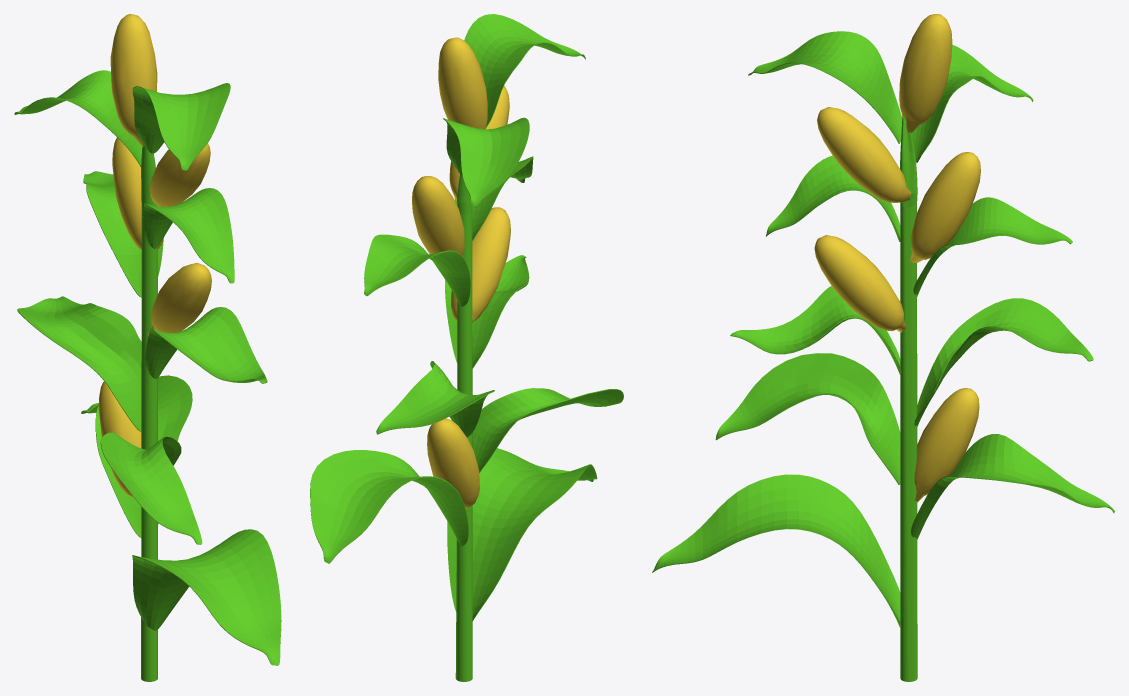
The model's file is corn3.fbx.
The picture shows the model from 3 angles, left to right: view 1: azimuth 30°, elevation 25°; view 2: azimuth 150°, elevation 25°; view 3: azimuth 270°, elevation 25°; orthographic projection.
Visible parts, largest first — view 1: corn stage 3; view 2: corn stage 3; view 3: corn stage 3.
Boxes of the visible parts, bbox=[...] form: corn stage 3: bbox=[14, 14, 281, 681]; corn stage 3: bbox=[310, 14, 623, 681]; corn stage 3: bbox=[652, 14, 1114, 681].
Bounding box in the file's own units: 56.88 × 197 × 125.
